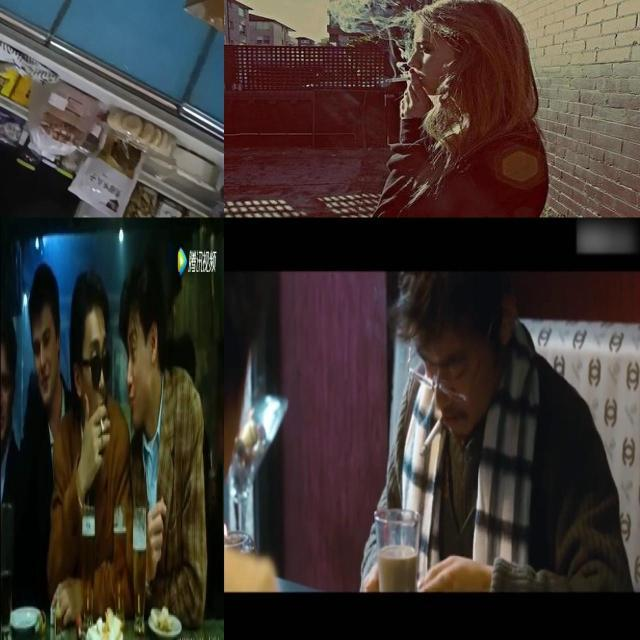smoking: (419, 413, 447, 457), (384, 76, 414, 84), (100, 418, 105, 433)
